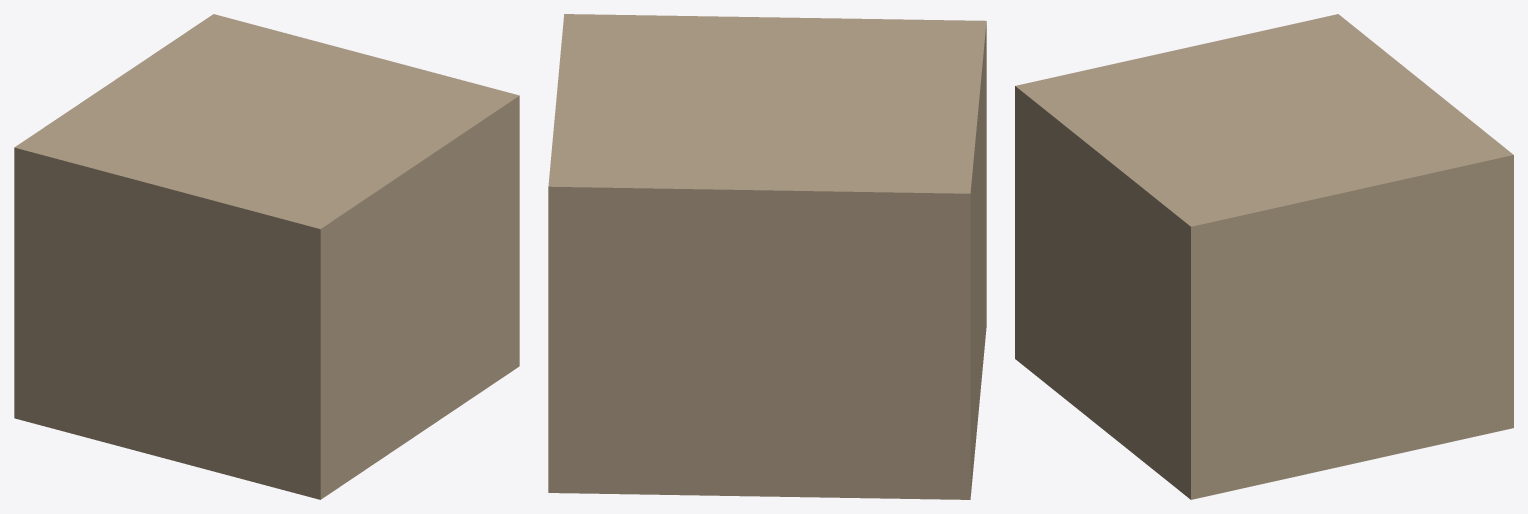
Rendered from bld_106306831.dae.
The picture shows the model from 3 angles, left to right: view 1: azimuth 30°, elevation 25°; view 2: azimuth 150°, elevation 25°; view 3: azimuth 270°, elevation 25°; orthographic projection. The views are drawn at different scales.
Parts seen in each view (by area): view 1: bld_106306831; view 2: bld_106306831; view 3: bld_106306831.
Boxes of the visible parts, x1,y1,x2,y2 form: bld_106306831: [14, 14, 519, 499]; bld_106306831: [548, 14, 986, 499]; bld_106306831: [1015, 14, 1513, 499].
Bounding box in the file's own units: 13.37 × 13.24 × 8.
